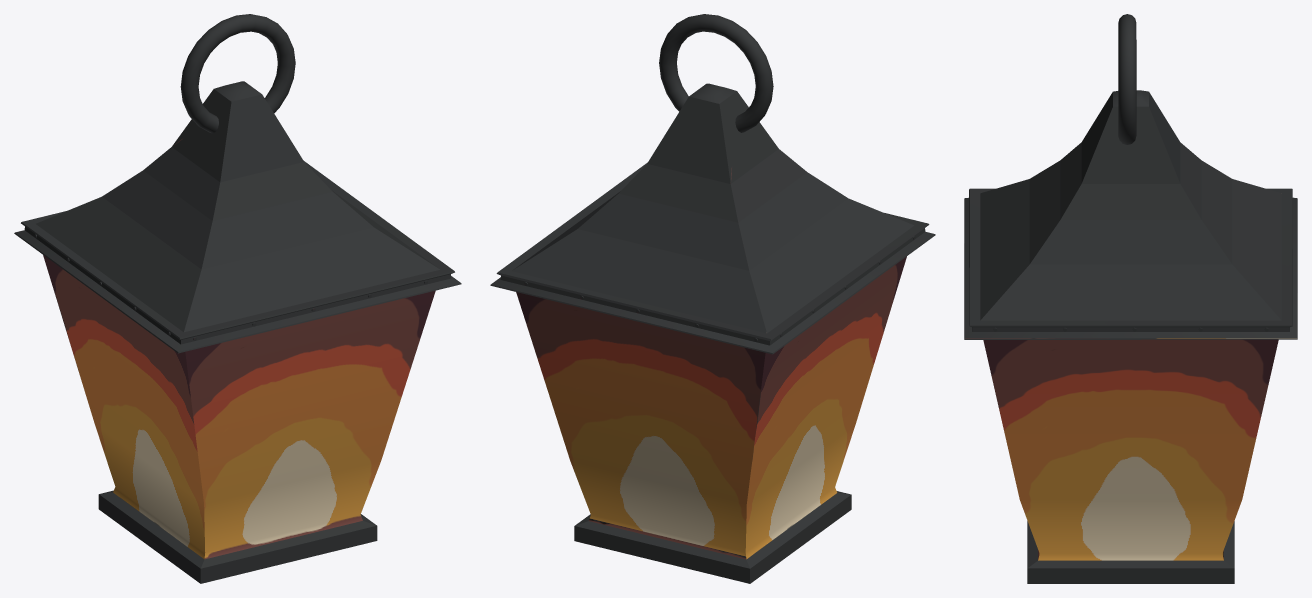
Rendered from Lantern.glb.
The picture shows the model from 3 angles, left to right: view 1: azimuth 30°, elevation 25°; view 2: azimuth 150°, elevation 25°; view 3: azimuth 270°, elevation 25°; orthographic projection. The views are drawn at different scales.
Parts seen in each view (by area): view 1: Cylinder006; view 2: Cylinder006; view 3: Cylinder006.
Part boxes in pixels (x1=…): Cylinder006: x1=14, y1=14, x2=461, y2=583; Cylinder006: x1=490, y1=14, x2=935, y2=583; Cylinder006: x1=964, y1=14, x2=1297, y2=583.
Size of the model in its own units: 0.2737 by 0.4706 by 0.2737.
1 material, 1 textured.
